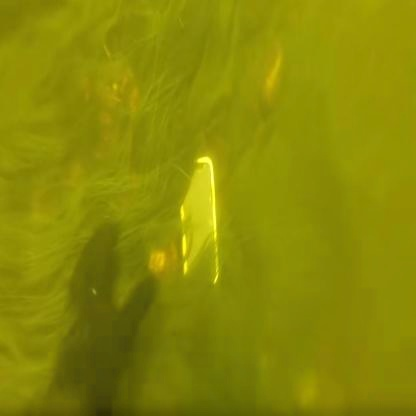cellphone: (176, 156, 218, 293)
